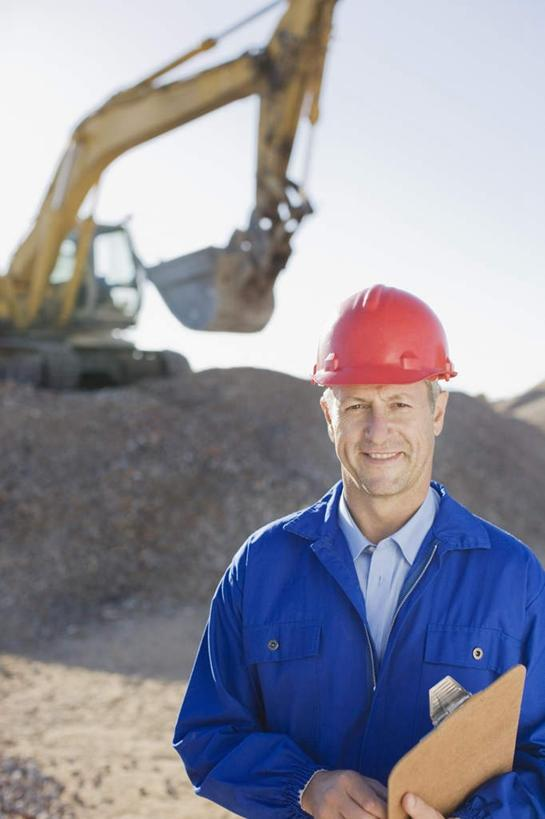helmet: (309, 278, 460, 402)
wear: (212, 504, 542, 819)
